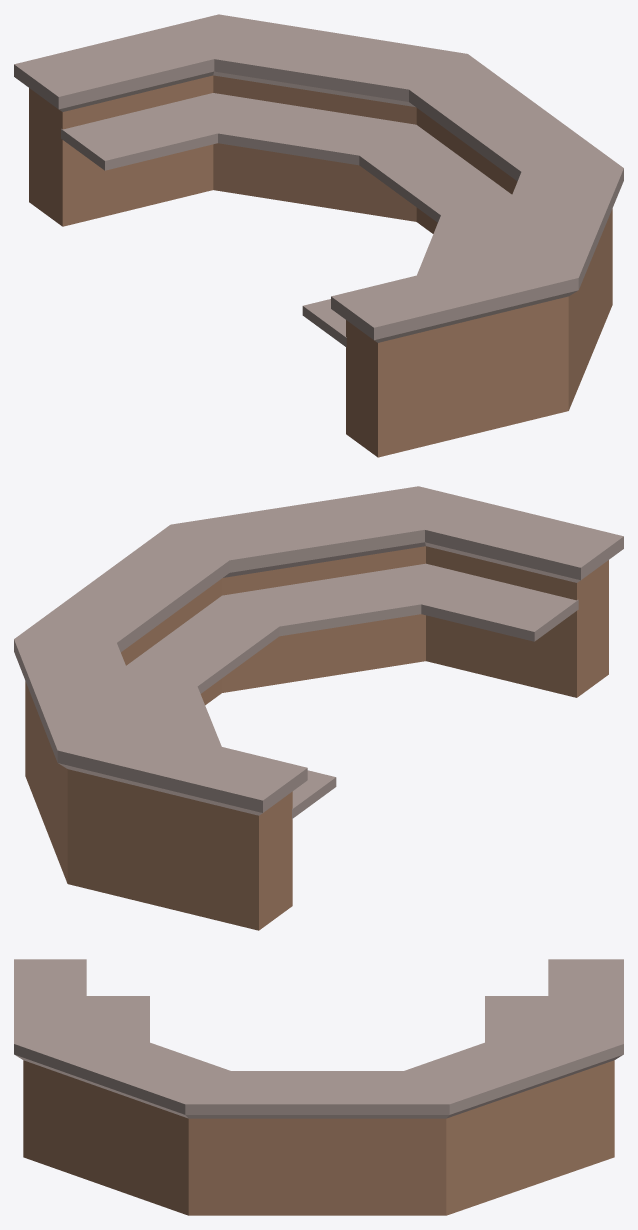
The model's file is SM_ReceptionTable_A_Empty.fbx.
3 views of the same model, one above another, from view 1: azimuth 30°, elevation 25°; view 2: azimuth 150°, elevation 25°; view 3: azimuth 270°, elevation 25° (orthographic). The views are drawn at different scales.
Parts seen in each view (by area): view 1: SM_ReceptionTable_A_Empty; view 2: SM_ReceptionTable_A_Empty; view 3: SM_ReceptionTable_A_Empty.
Boxes of the visible parts, <box> form: SM_ReceptionTable_A_Empty: <box>14,14,623,457</box>; SM_ReceptionTable_A_Empty: <box>14,486,623,930</box>; SM_ReceptionTable_A_Empty: <box>14,959,623,1215</box>.
Bounding box in the file's own units: 301 × 111 × 534.
Materials: 1 (1 with a texture image).
